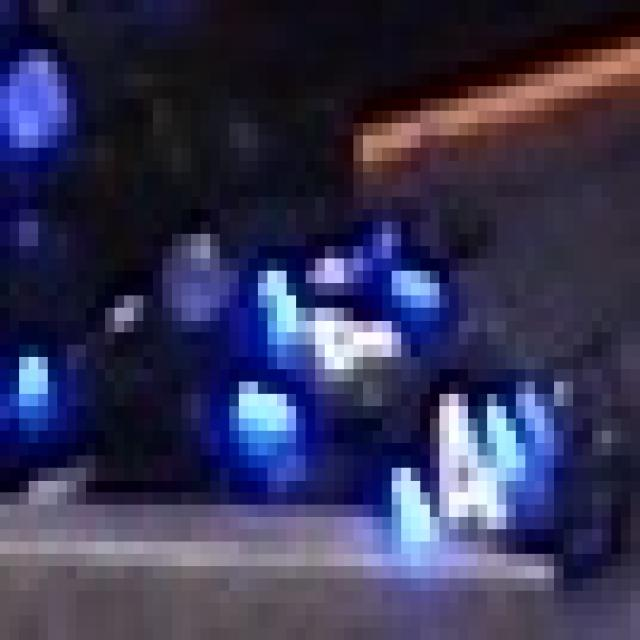B4: (229, 258, 449, 456), (382, 381, 535, 554)
